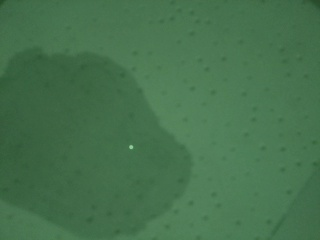Water_detected: (0, 77, 157, 211)
